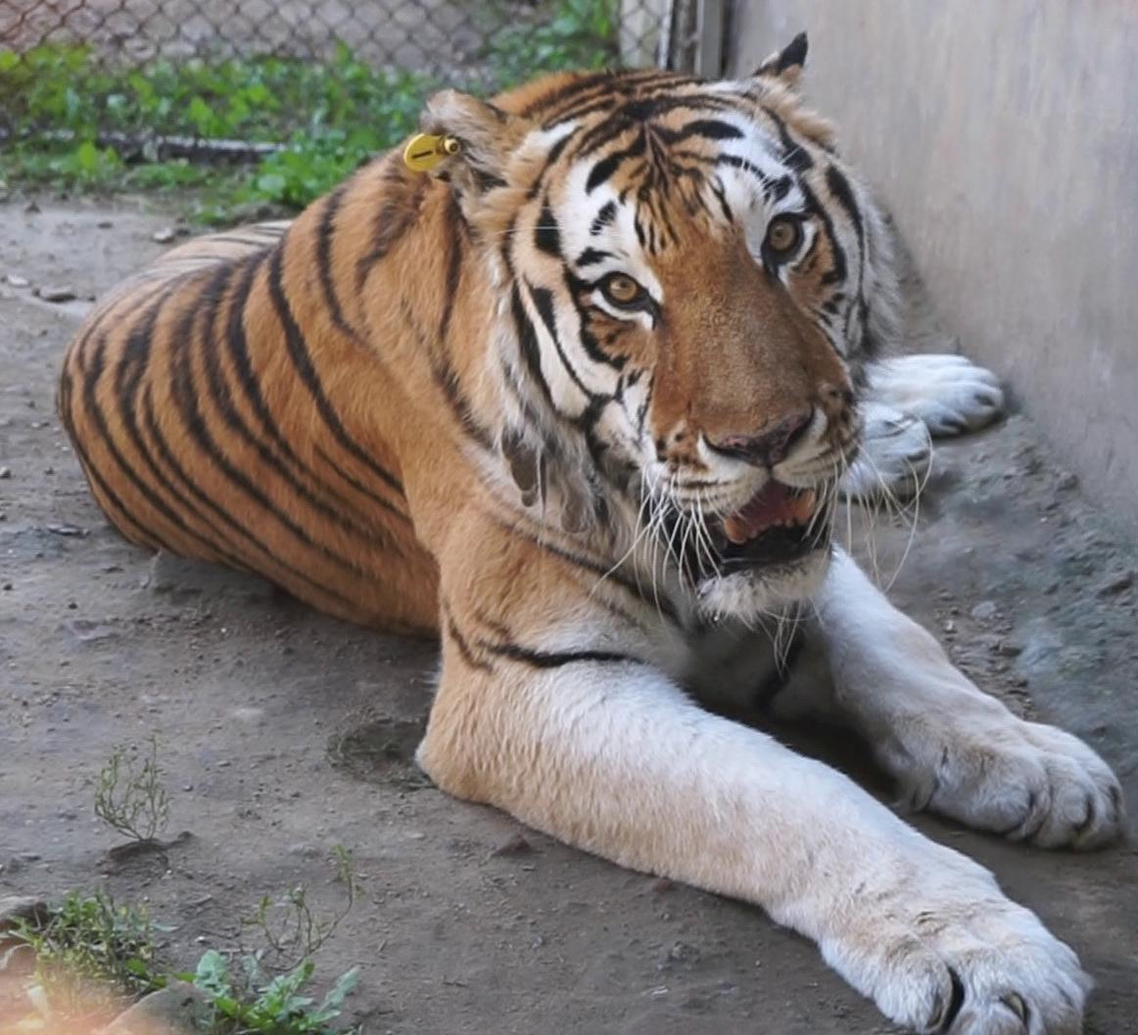tiger: (59, 33, 1123, 1034)
